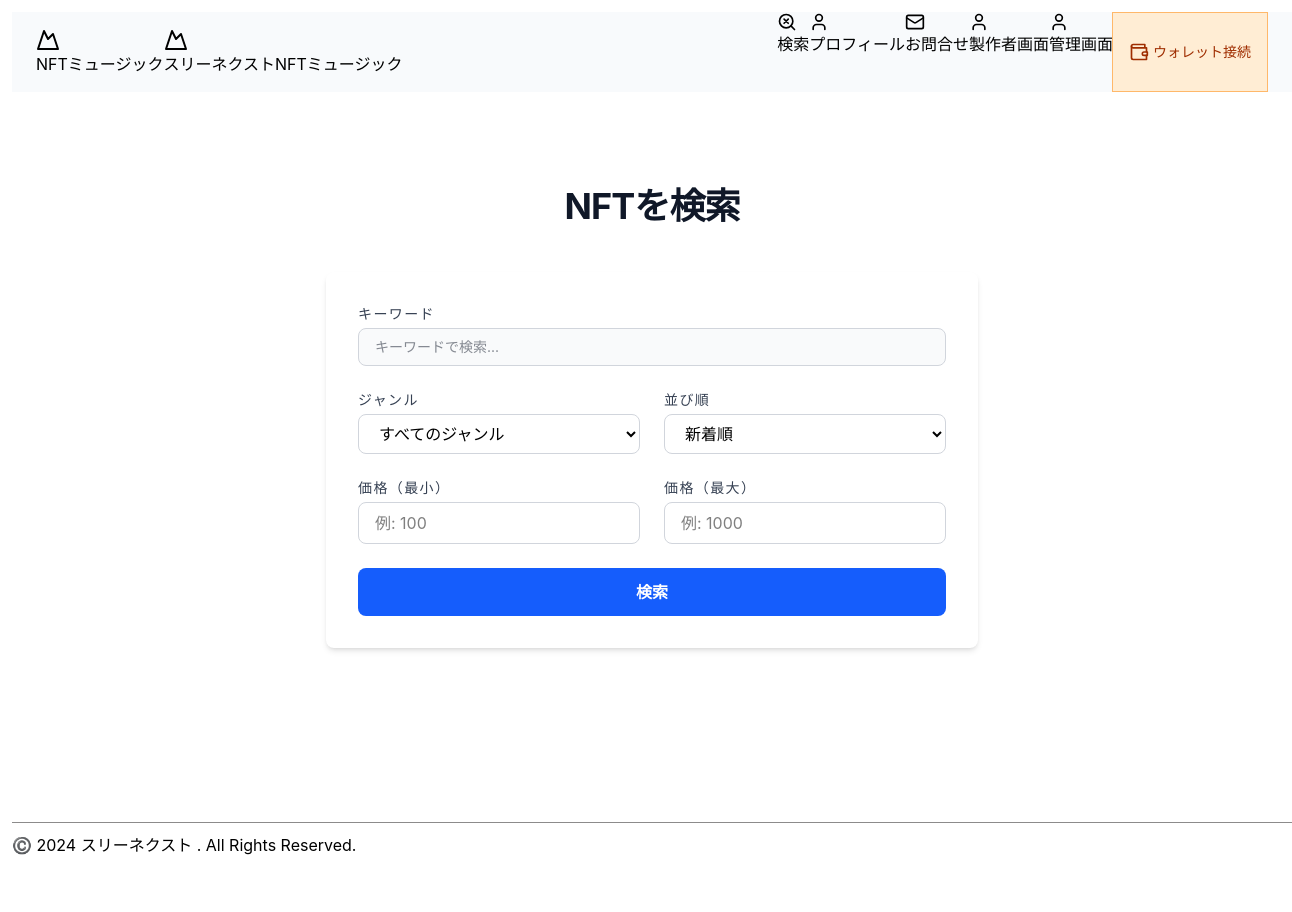
Test case: SearchPage › 検索結果が空の場合にメッセージが表示されること
The width and height of the screenshot is (1292, 912).
Click the button "検索".
click(652, 592)  # box x1=358 y1=568 x2=946 y2=616
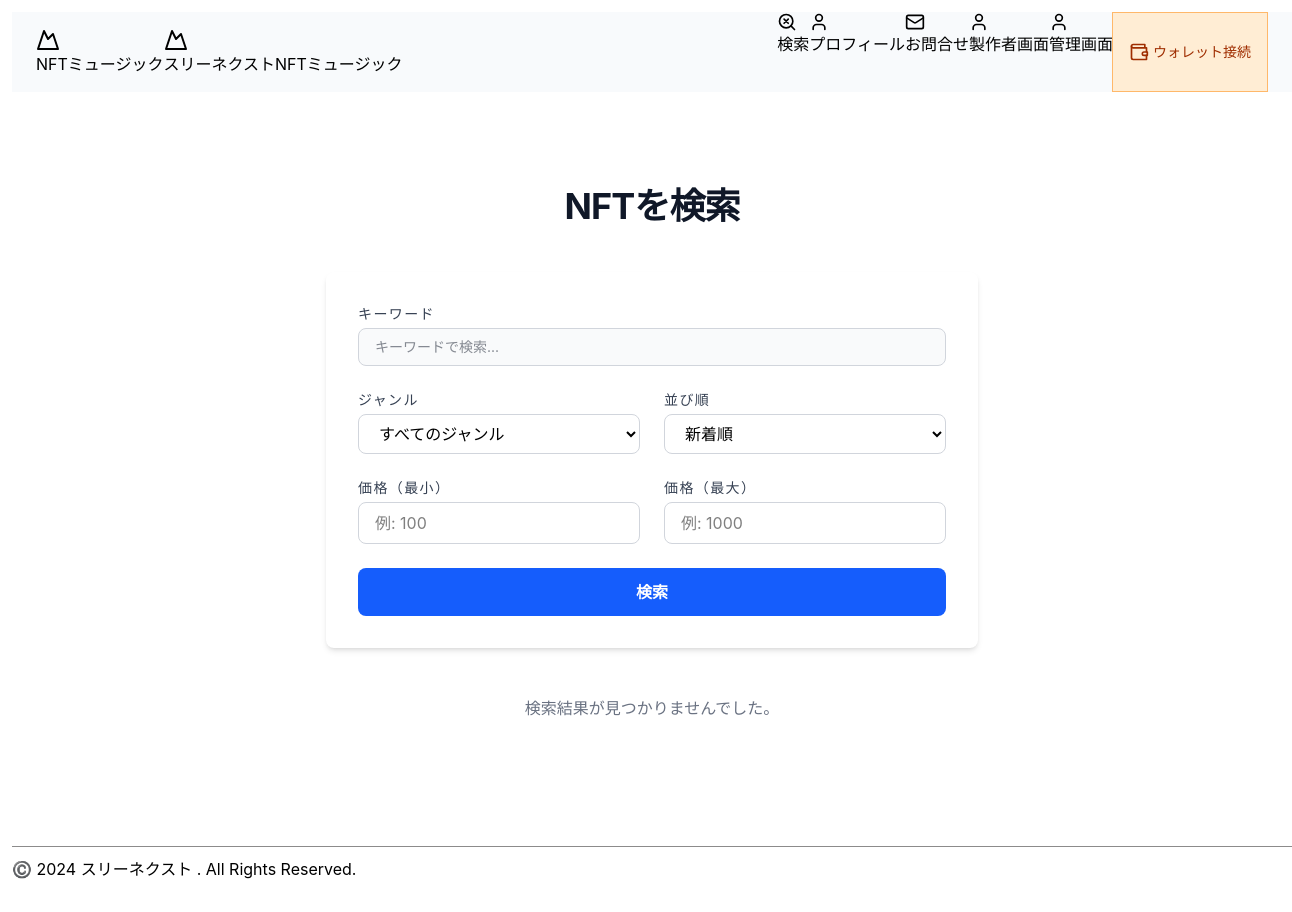
Check: the text "検索結果が見つかりませんでした。" is shown, box x1=525 y1=696 x2=779 y2=720
